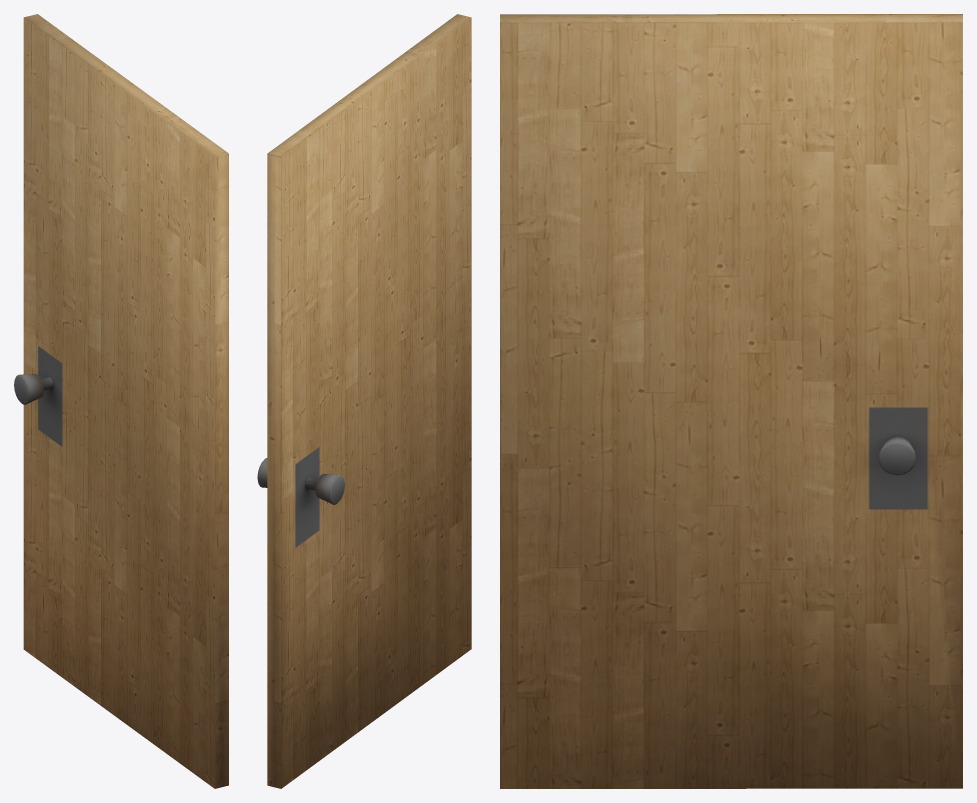
Rendered from wooden_door_-_low_poly_animated.glb.
The picture shows the model from 3 angles, left to right: view 1: azimuth 30°, elevation 25°; view 2: azimuth 150°, elevation 25°; view 3: azimuth 270°, elevation 25°; orthographic projection. The views are drawn at different scales.
Visible parts, largest first — view 1: Cube.009_Baked.002_0; view 2: Cube.009_Baked.002_0; view 3: Cube.009_Baked.002_0.
Part boxes in pixels (x1,y1,x2,y2): Cube.009_Baked.002_0: [14, 14, 228, 788]; Cube.009_Baked.002_0: [257, 14, 471, 788]; Cube.009_Baked.002_0: [500, 14, 962, 788].
Bounding box in the file's own units: 0.3482 × 2.86 × 1.56.
1 material, 1 textured.
